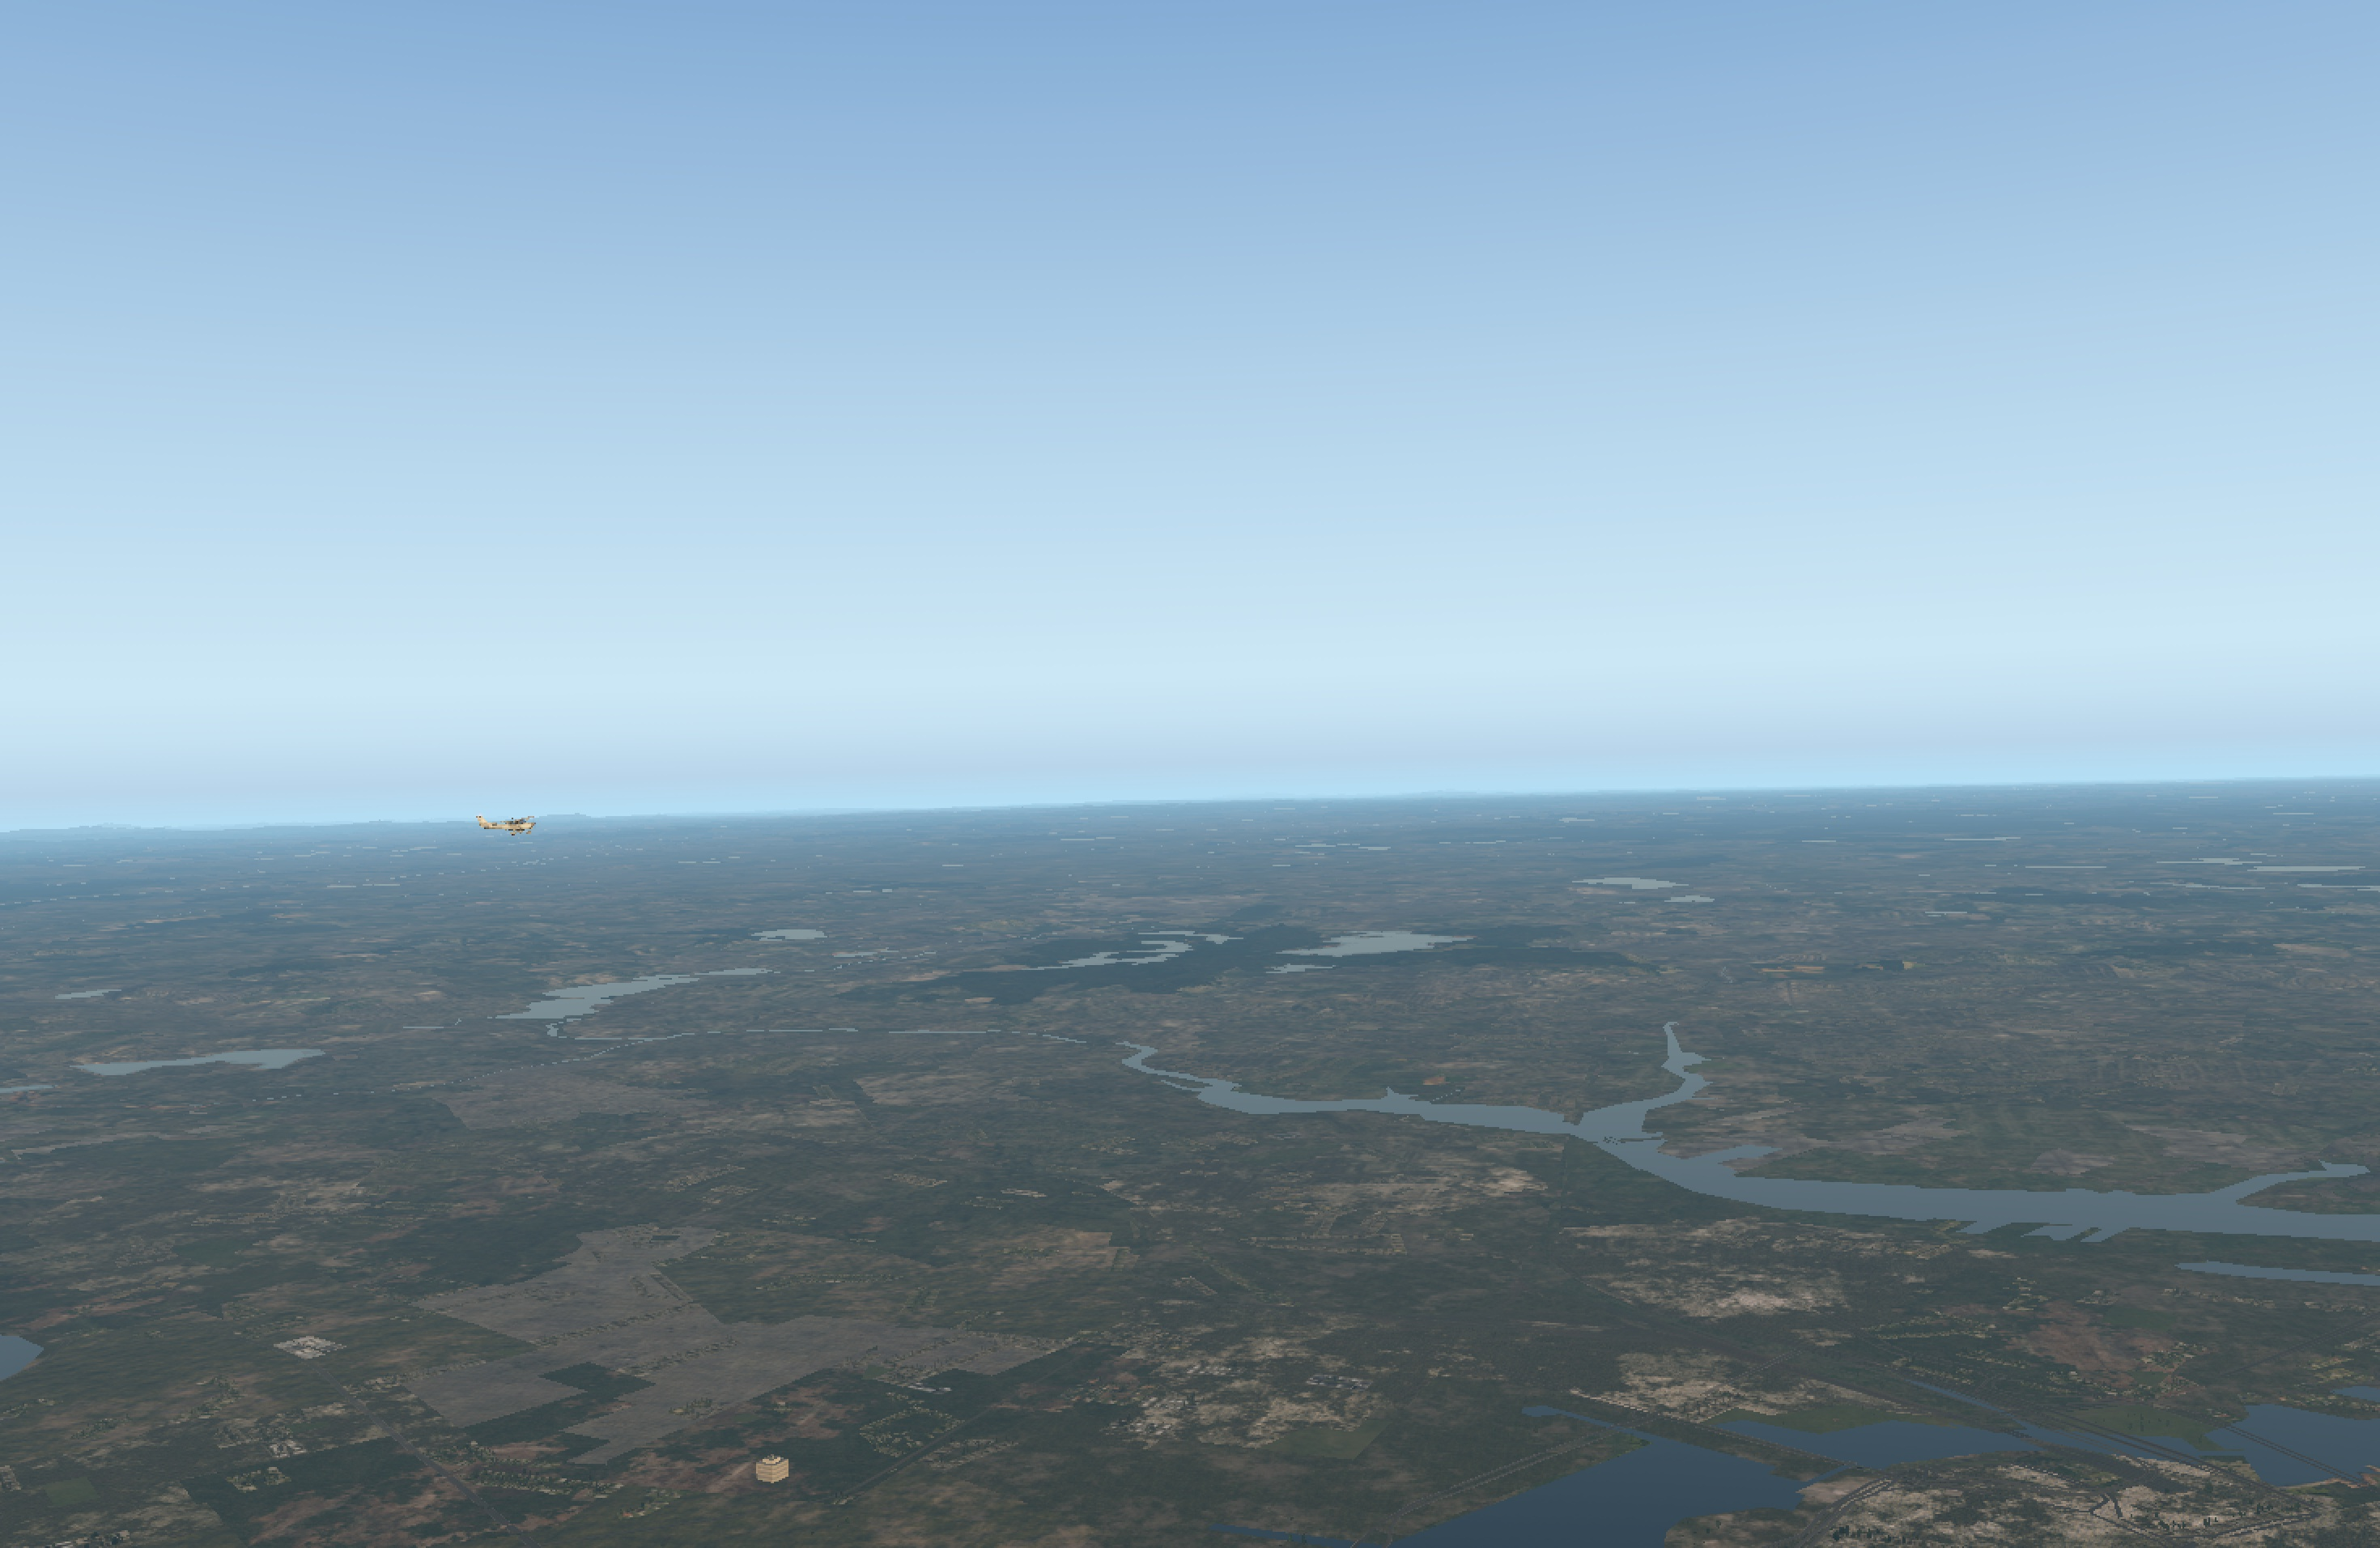aircraft: (491, 814, 546, 835)
